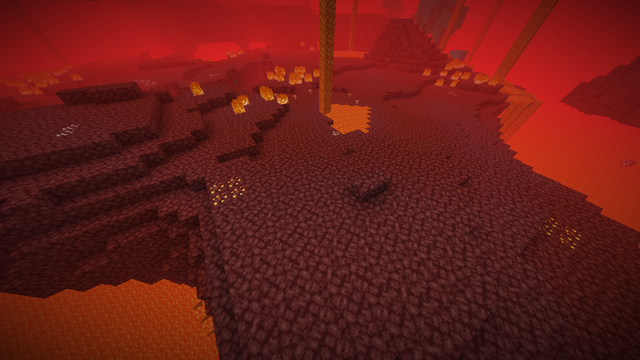nethergold: (539, 216, 582, 252), (208, 175, 247, 206)
quartz: (55, 123, 79, 137)
